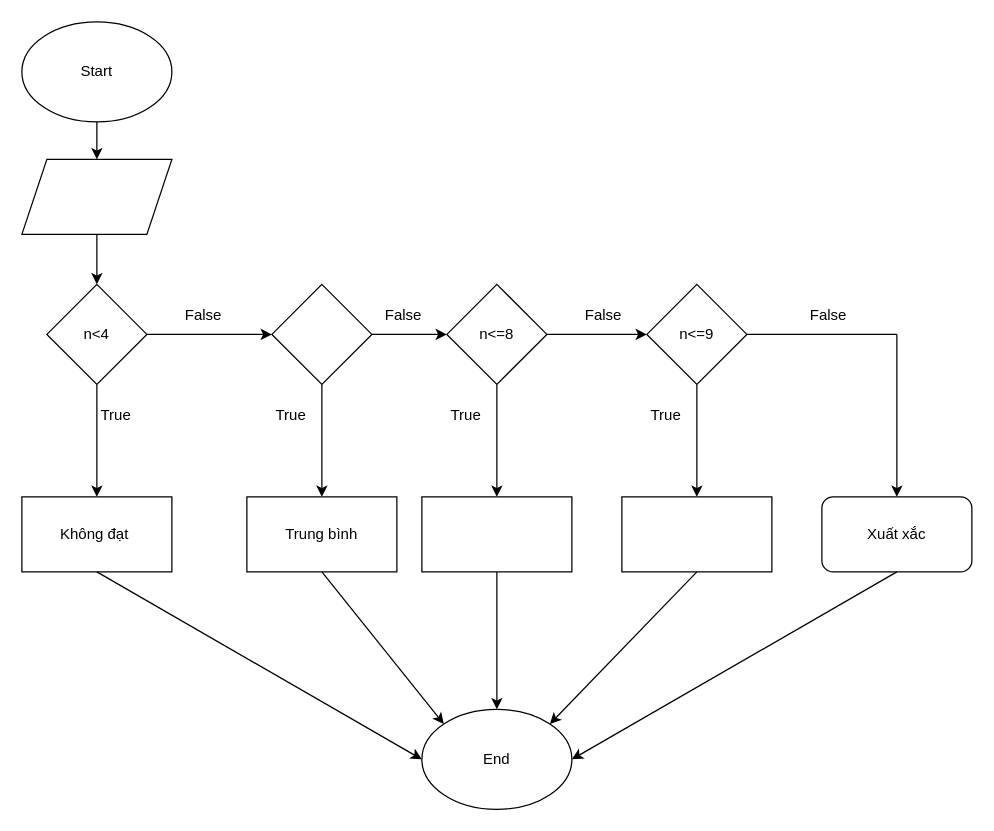
Image size: 994x831. Some labels were removed from this diagram. The centre of each missing label's shape, as x and y in pixels:
Giỏi: (x=696, y=534)
Khá: (x=496, y=534)
n<=6: (x=321, y=333)
Nhập điểm n: (x=96, y=196)
